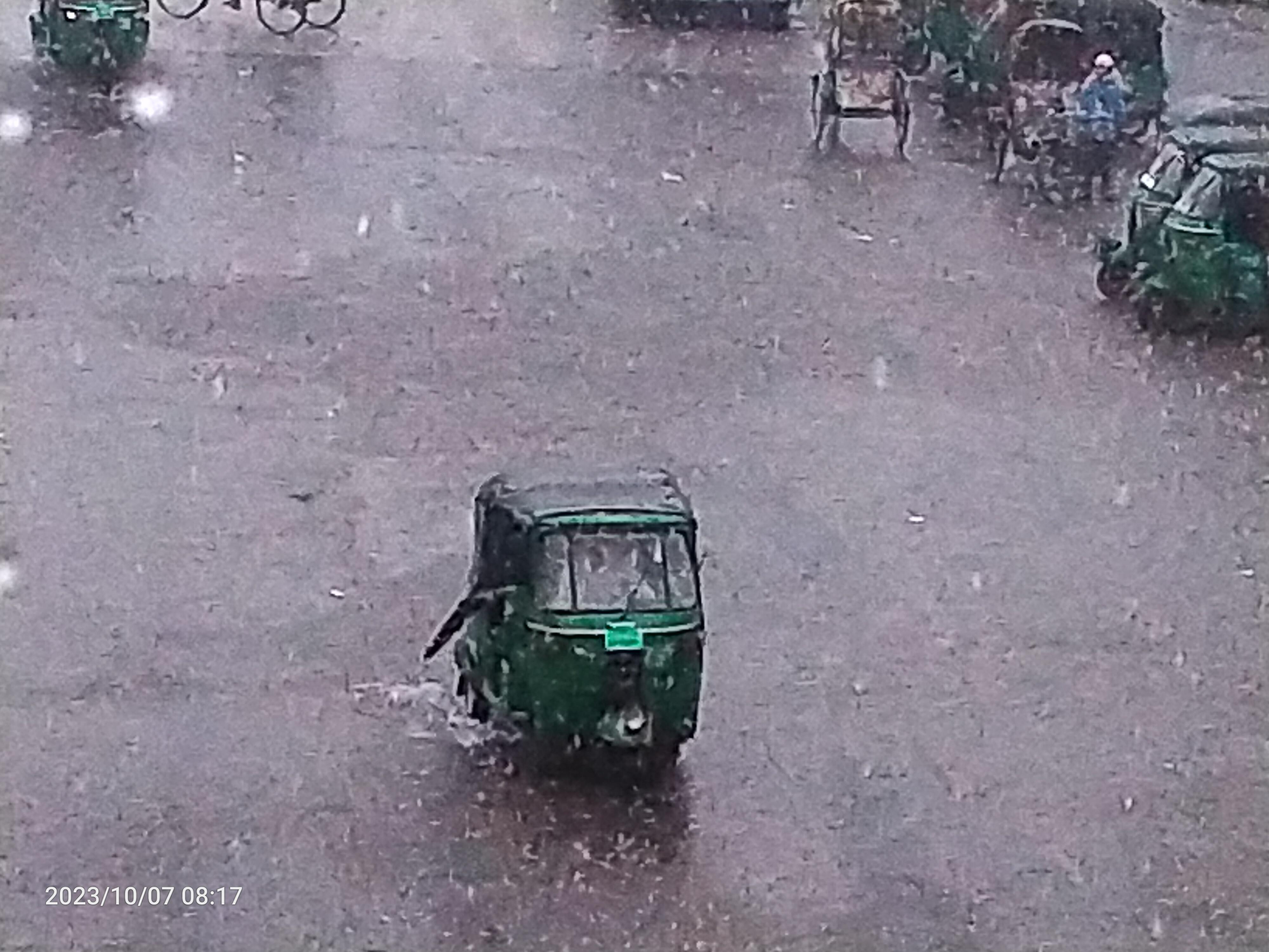Car: (784, 0, 937, 178), (988, 15, 1115, 214)
